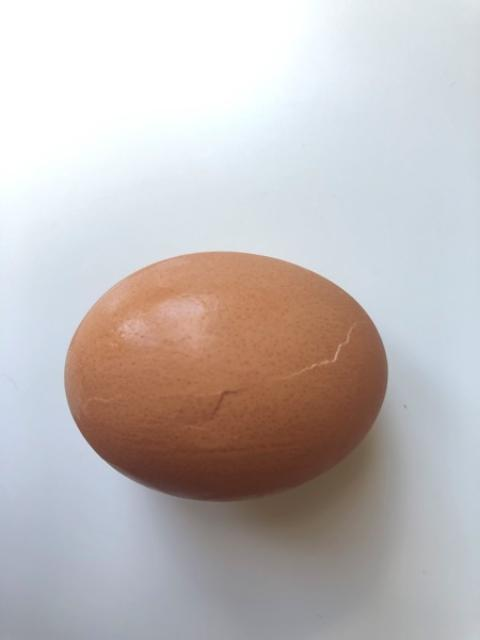Roto: (63, 249, 388, 502)
